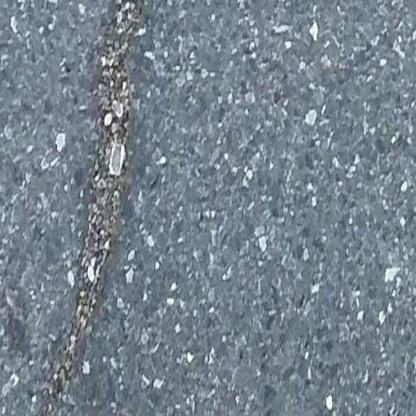Cracks: (41, 0, 146, 399)
